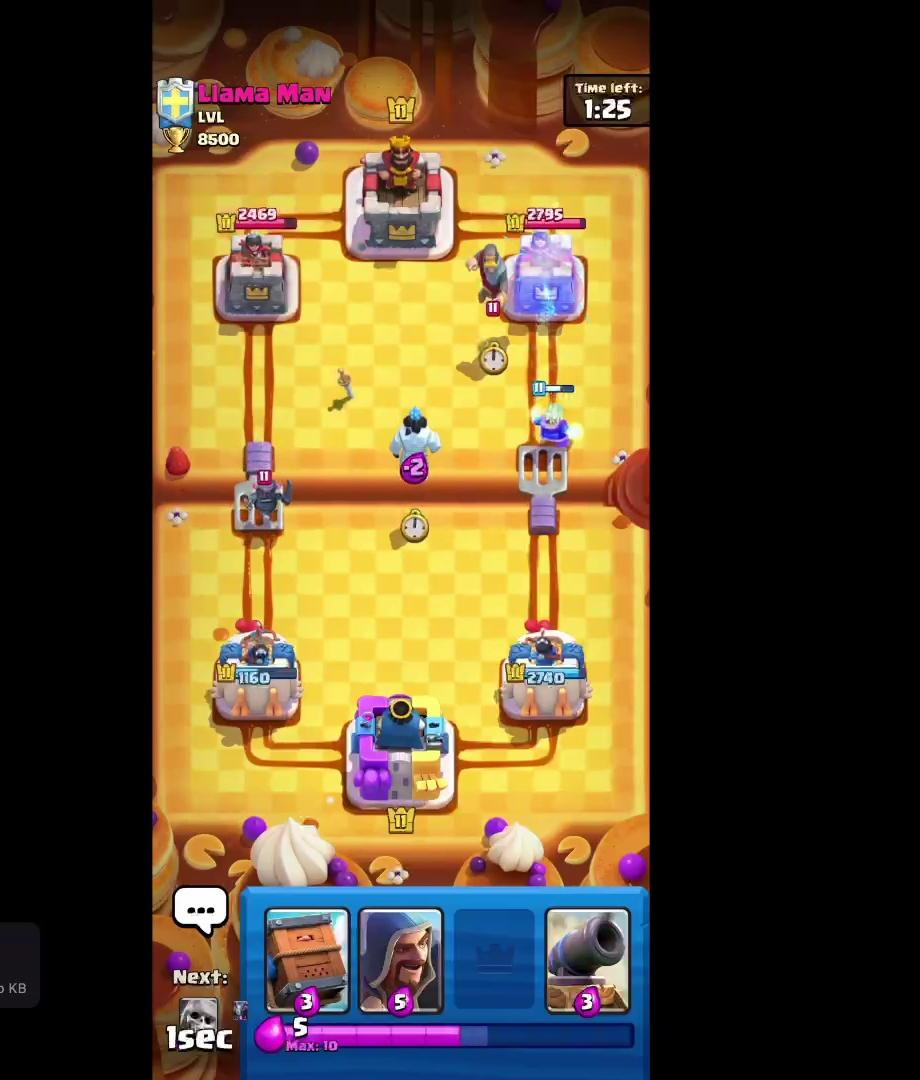Knight: (467, 241, 521, 315)
